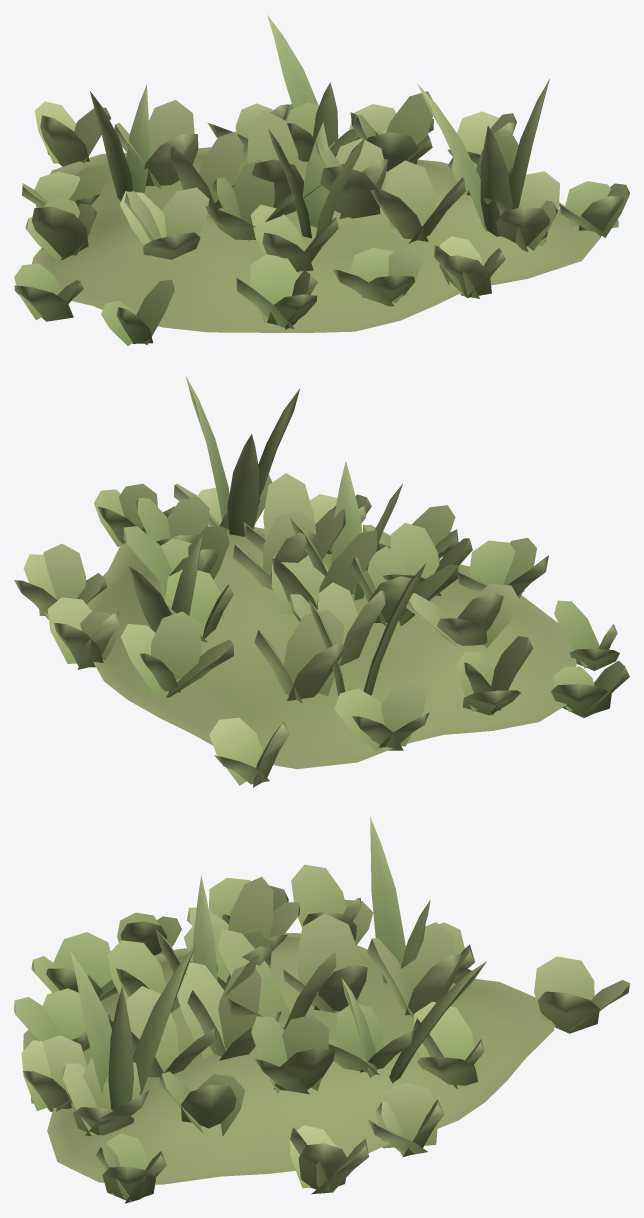
File: patch_blob_b.glb
3 views of the same model, one above another, from view 1: azimuth 30°, elevation 25°; view 2: azimuth 150°, elevation 25°; view 3: azimuth 270°, elevation 25° (orthographic). The views are drawn at different scales.
Parts seen in each view (by area): view 1: Patch_Blob_B.001; view 2: Patch_Blob_B.001; view 3: Patch_Blob_B.001.
Boxes of the visible parts, left/top/right/bottom form: Patch_Blob_B.001: left=14, top=15, right=629, bottom=345; Patch_Blob_B.001: left=14, top=376, right=629, bottom=787; Patch_Blob_B.001: left=14, top=816, right=629, bottom=1203.
Bounding box in the file's own units: 0.9441 × 0.2839 × 0.833.
